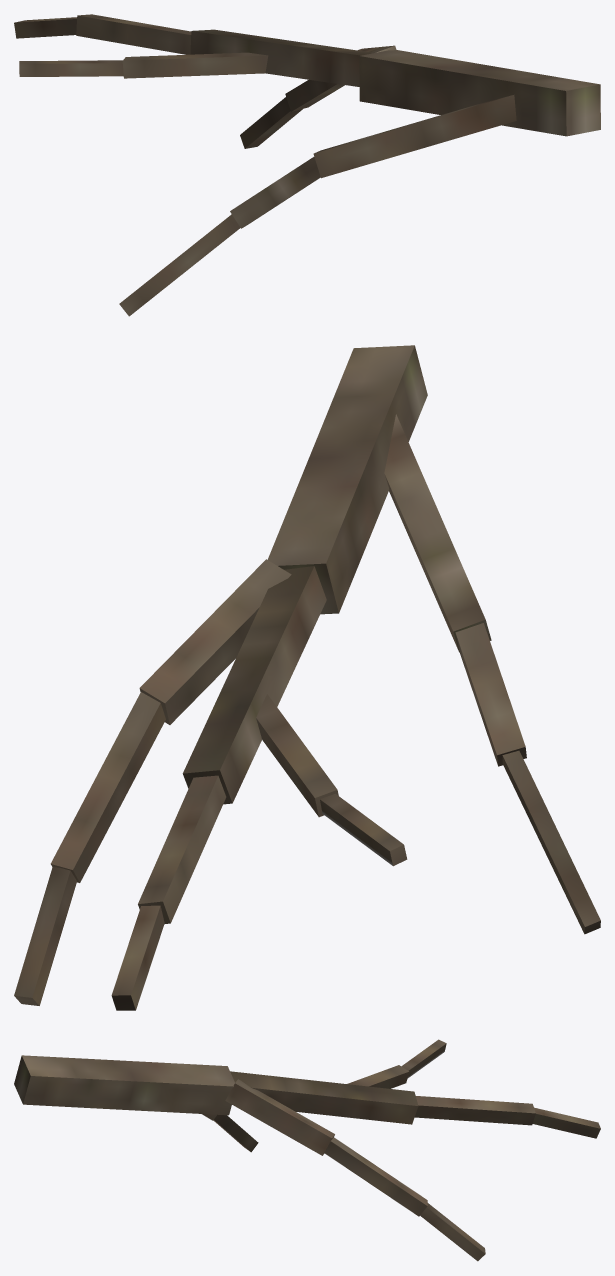
The model's file is whitebeam_twig_branch_2.obj.
3 renders of one model, top to bottom at view 1: azimuth 30°, elevation 25°; view 2: azimuth 150°, elevation 25°; view 3: azimuth 270°, elevation 25°, orthographic. The views are drawn at different scales.
Visible parts, largest first — view 1: cube; view 2: cube; view 3: cube.
Part boxes in pixels (x1=…): cube: x1=14, y1=14, x2=600, y2=316; cube: x1=14, y1=345, x2=600, y2=1010; cube: x1=14, y1=1039, x2=600, y2=1261.
Bounding box in the file's own units: 1.34 × 1.06 × 2.72.
